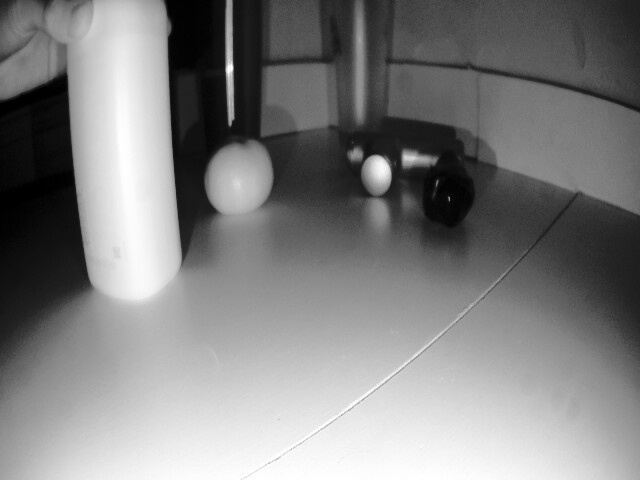silver: (425, 155, 486, 228)
